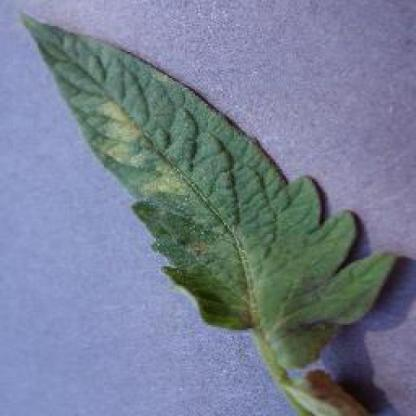Tomato_Leaf_Mold: (21, 11, 397, 336)
